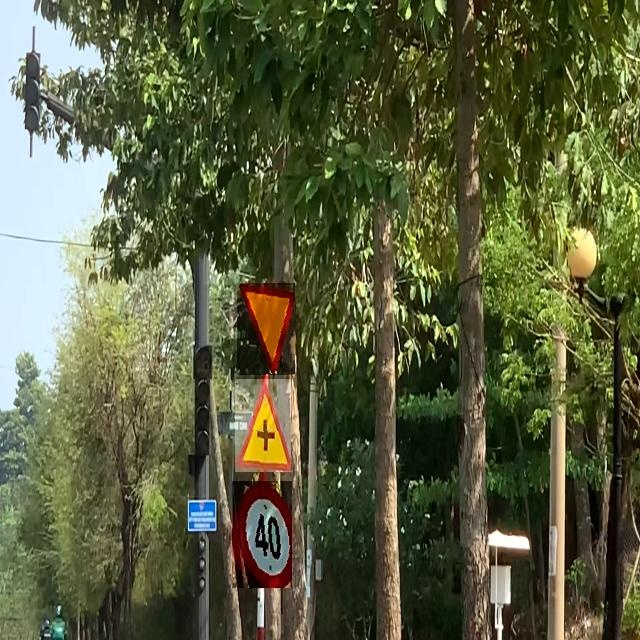bien_nguy_hiem: (232, 481, 292, 588), (237, 284, 295, 376), (235, 379, 291, 472)
